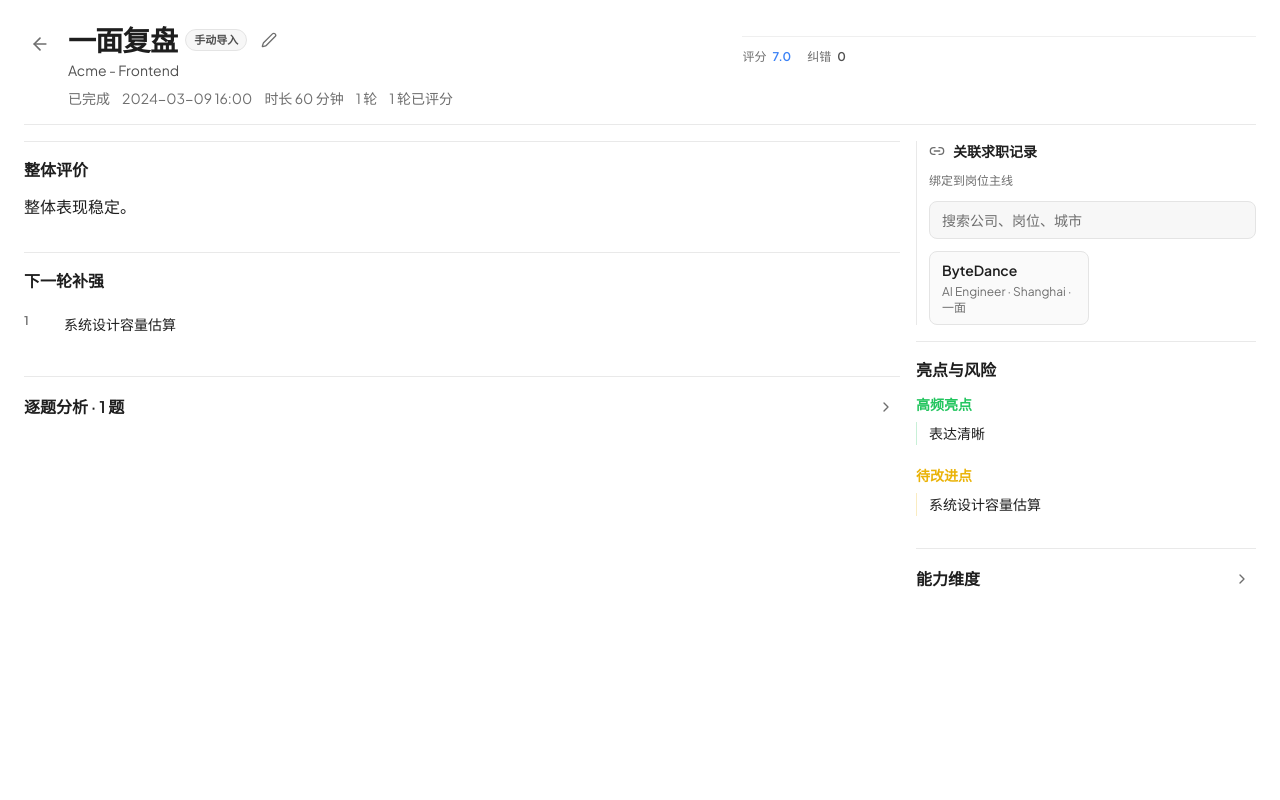
ReviewSessionDetail › tolerates string scorecard values in turn details
Expected: the heading "逐题分析 · 1 题" is shown, [24,395,124,419]
Click the button "逐题分析 · 1 题": (74, 406) [24,381,900,433]
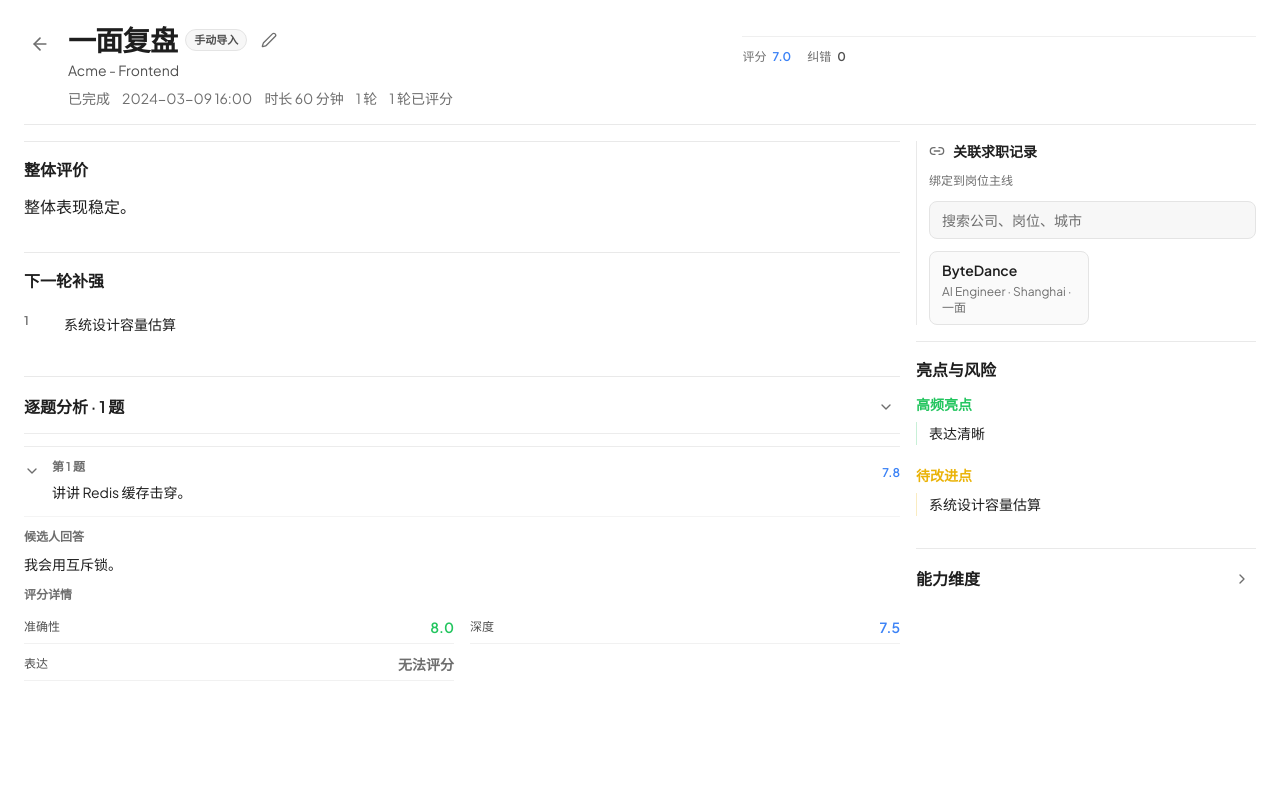
Now the text "讲讲 Redis 缓存击穿。" is shown, box [52,483,192,501]
Now the text "7.8" is shown, box [882,465,900,480]
Now the text "8.0" is shown, box [430,617,454,637]
